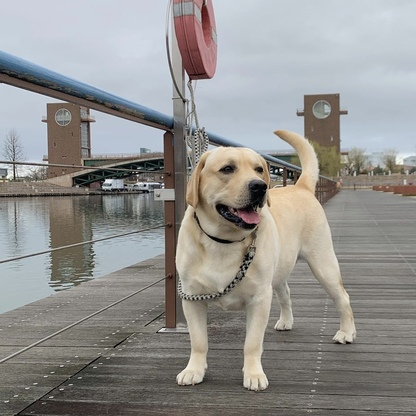labrado: (169, 126, 361, 395)
